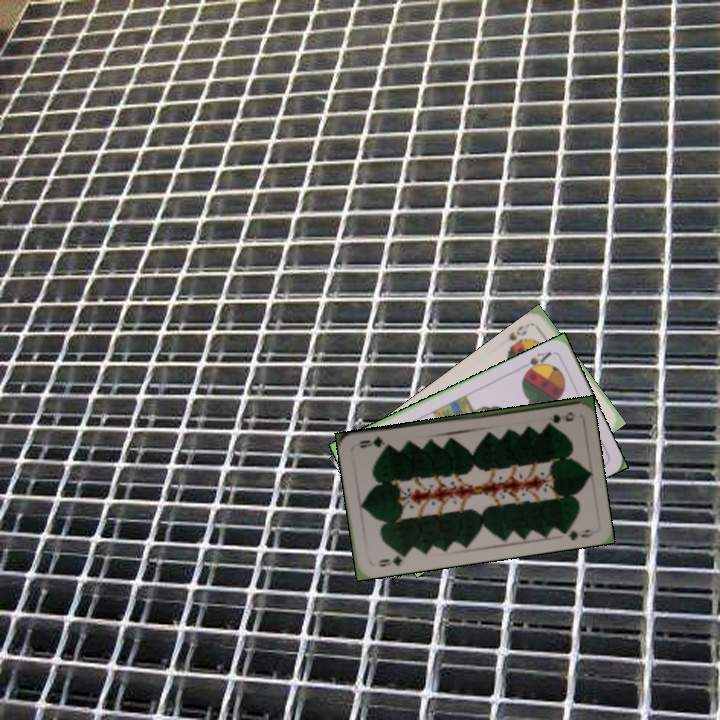G9: (375, 549, 409, 569), (541, 408, 575, 426)
SA: (517, 347, 554, 377)
SO: (497, 321, 529, 354)
